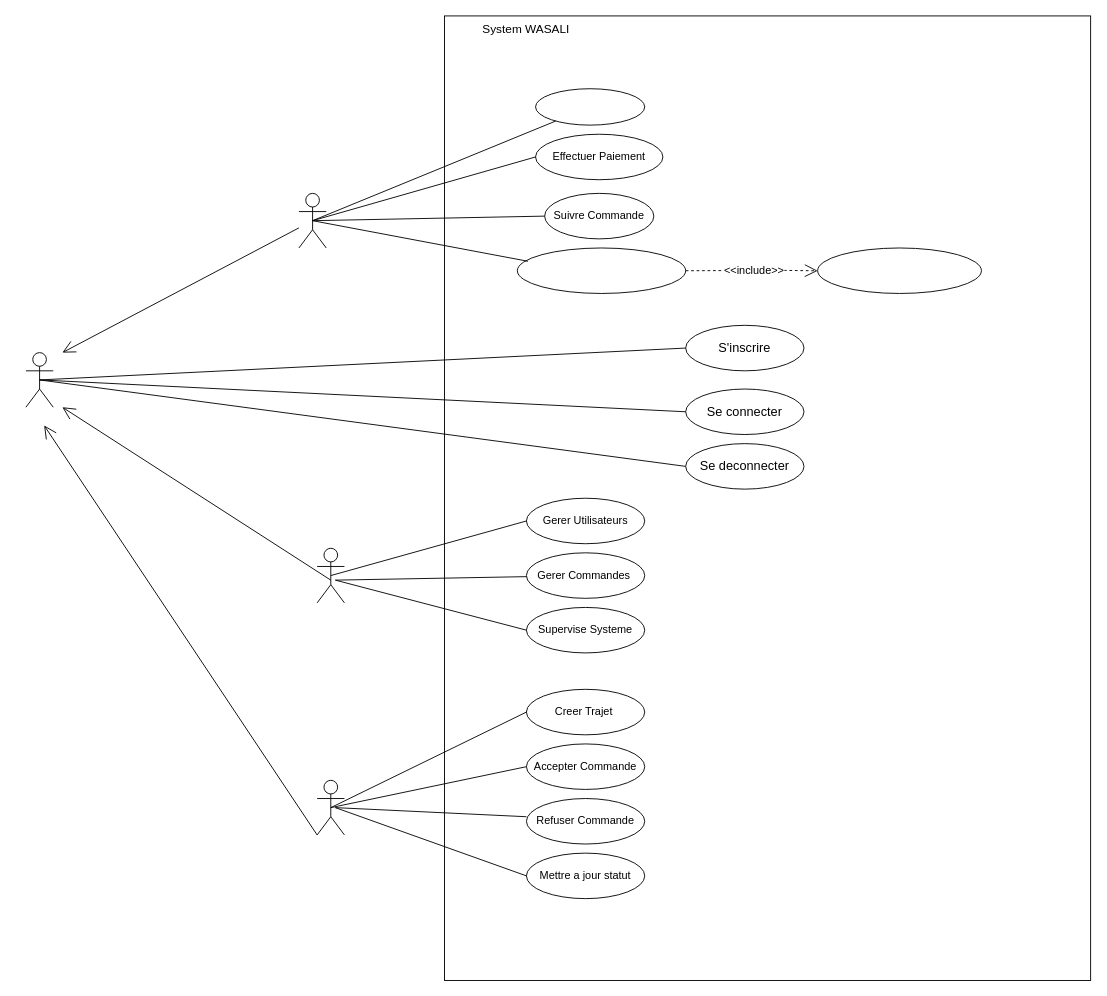
This 1107x996 diagram has some shape labels left out. Here are the shapes that lost their labels. From the top down, the centre of each, then its label:
[590,106]: Creer Commande
[312,220]: Expediteur
[601,270]: Publier une annonce de colis
[899,270]: Telecharge images du colis
[39,379]: Utilisateur
[330,575]: Admin
[330,807]: Voyageur
